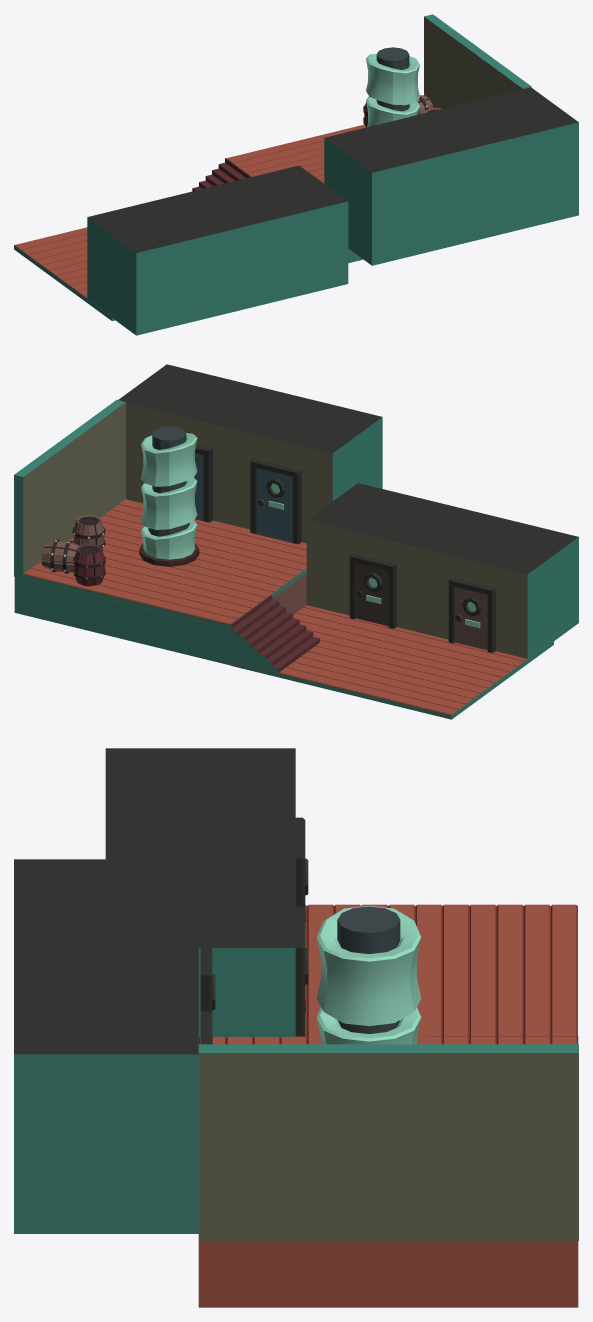
File: middle2.fbx
3 views of the same model, one above another, from view 1: azimuth 30°, elevation 25°; view 2: azimuth 150°, elevation 25°; view 3: azimuth 270°, elevation 25° (orthographic). The views are drawn at different scales.
Parts seen in each view (by area): view 1: middle2; view 2: middle2; view 3: middle2.
Boxes of the visible parts, x1,y1,x2,y2 form: middle2: [14, 14, 578, 335]; middle2: [14, 364, 578, 719]; middle2: [14, 748, 578, 1307].
Bounding box in the file's own units: 1414 × 531 × 854.
